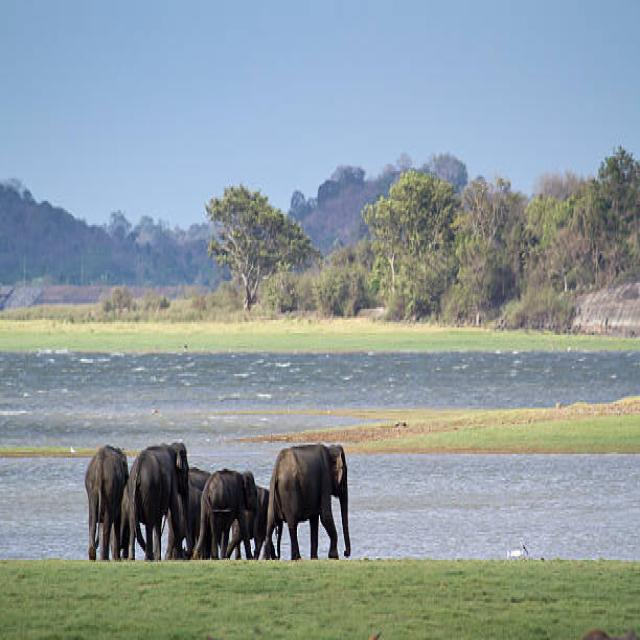Elephant: (265, 447, 355, 565), (127, 436, 195, 586), (80, 432, 134, 586), (200, 468, 261, 571)
